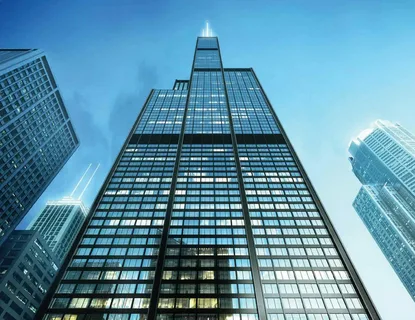high_rise_building: (138, 25, 309, 319)
